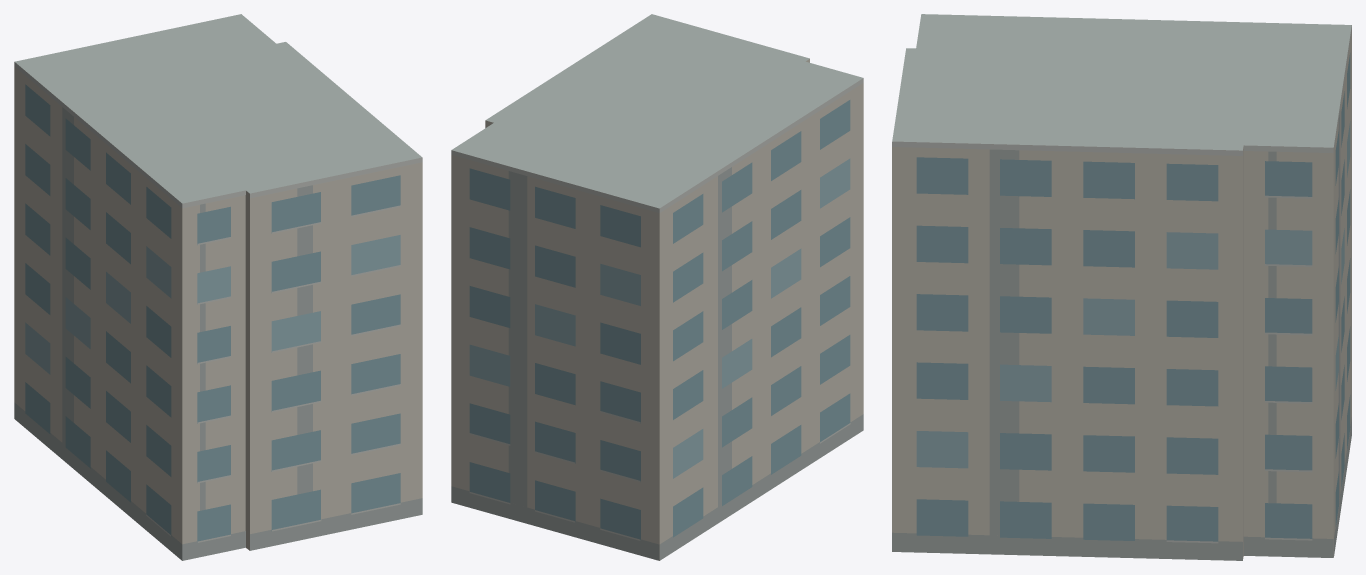
File: survey-upis-32737850.glb
The picture shows the model from 3 angles, left to right: view 1: azimuth 30°, elevation 25°; view 2: azimuth 150°, elevation 25°; view 3: azimuth 270°, elevation 25°; orthographic projection. The views are drawn at different scales.
Parts seen in each view (by area): view 1: survey-upis-32737850.tmp; view 2: survey-upis-32737850.tmp; view 3: survey-upis-32737850.tmp.
Boxes of the visible parts, x1,y1,x2,y2 form: survey-upis-32737850.tmp: (14, 14, 422, 560); survey-upis-32737850.tmp: (451, 14, 863, 560); survey-upis-32737850.tmp: (892, 14, 1351, 560).
Bounding box in the file's own units: 13.07 × 18.3 × 18.59.
